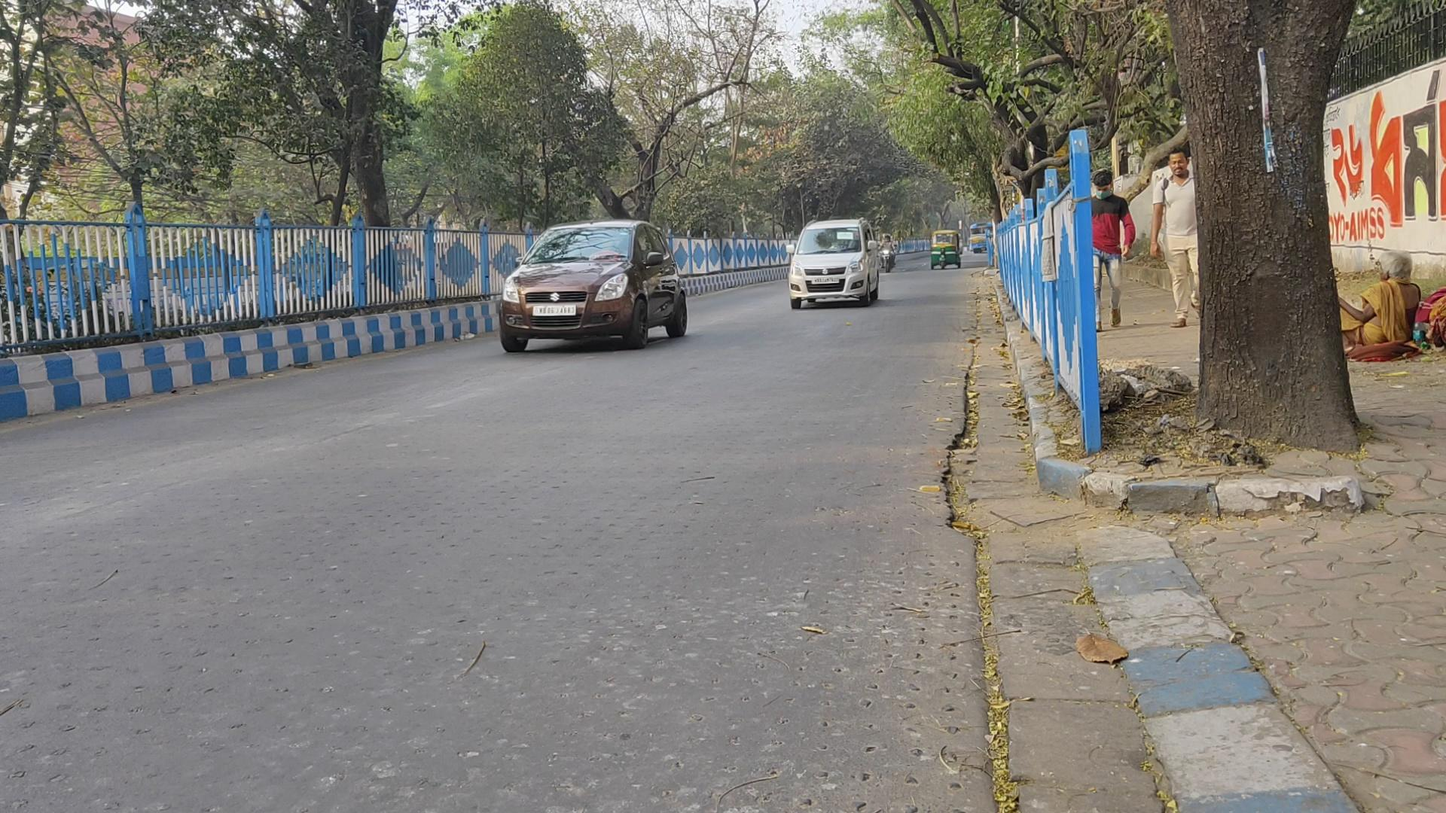Auto: (929, 227, 963, 273)
bike: (877, 233, 898, 273)
car: (500, 219, 688, 354), (786, 216, 880, 312)
